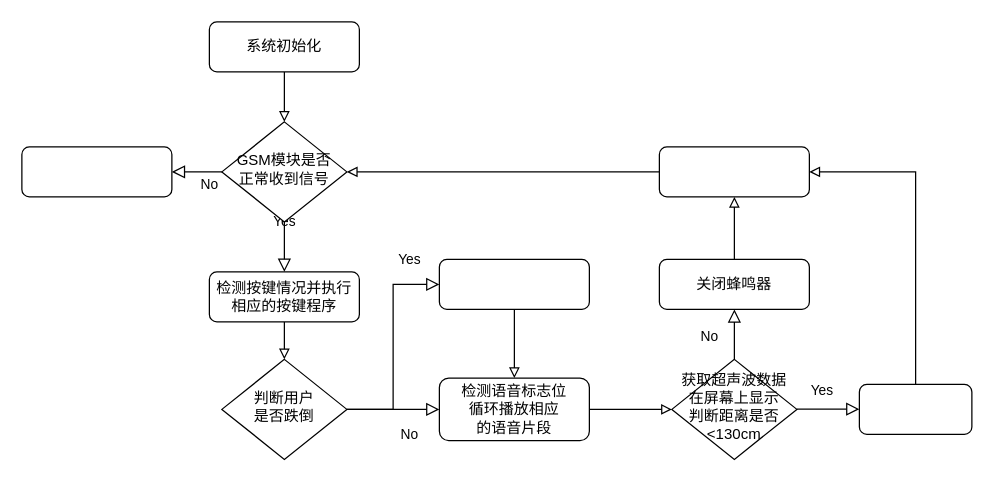
Some shapes in this 994 by 481 pixel diagram are drawn without their labels. The shapes that lost their labels are listed below. From the top down, each one's centre as x and y in pixels, then its label:
At [96,171]: "通过屏幕和蜂鸣器提示异常信息 程序停止运行".
At [733,171]: "屏幕上刷新坐标信息".
At [513,283]: "发送短信并设置语音标志位".
At [915,408]: "蜂鸣器鸣响".
